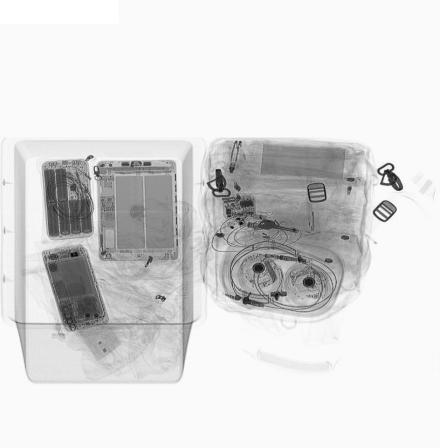Powerbank: (40, 158, 94, 241)
